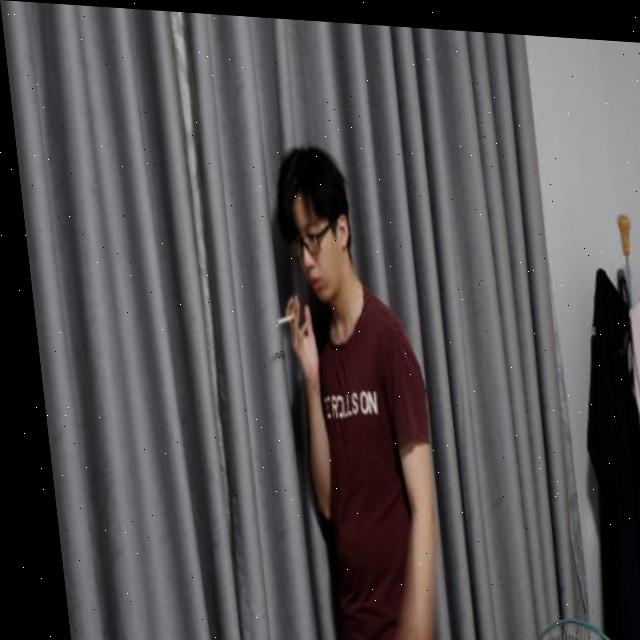cigarette: (266, 308, 291, 325)
